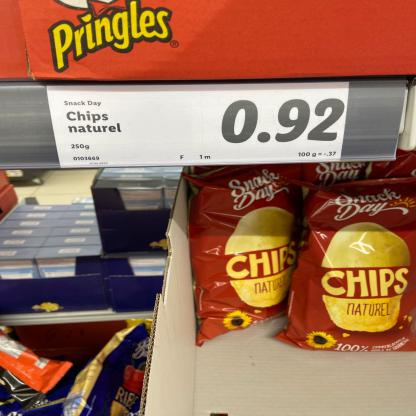prtg: (48, 82, 350, 169)
